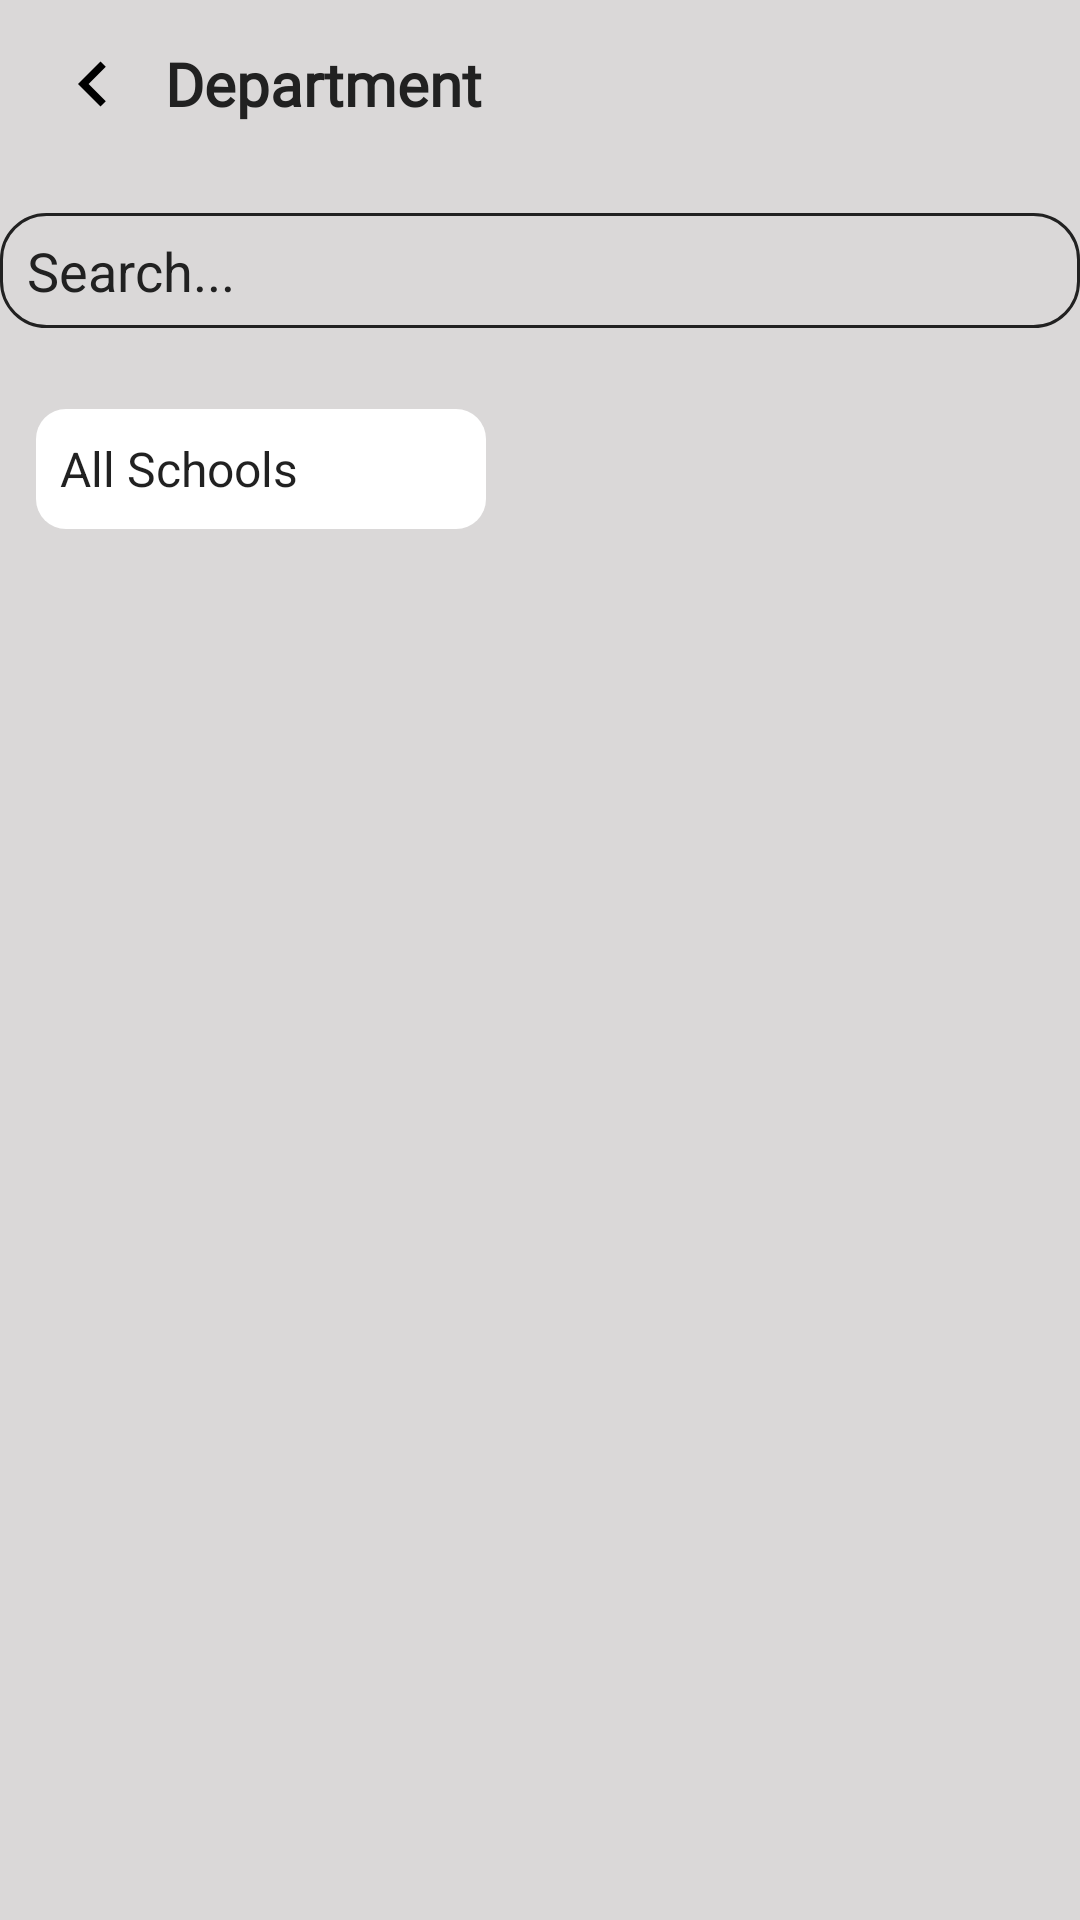

Icons on this 1080w x 1920h Android screen, each with its box as (x1, y1, x2, y2):
back: (78, 61, 106, 107)
